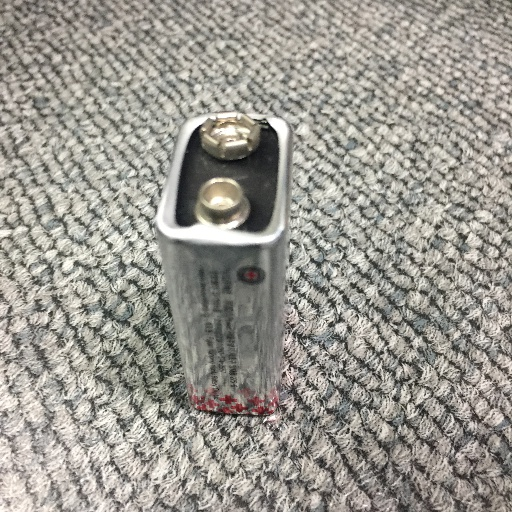Battery_3: (130, 87, 305, 440)
